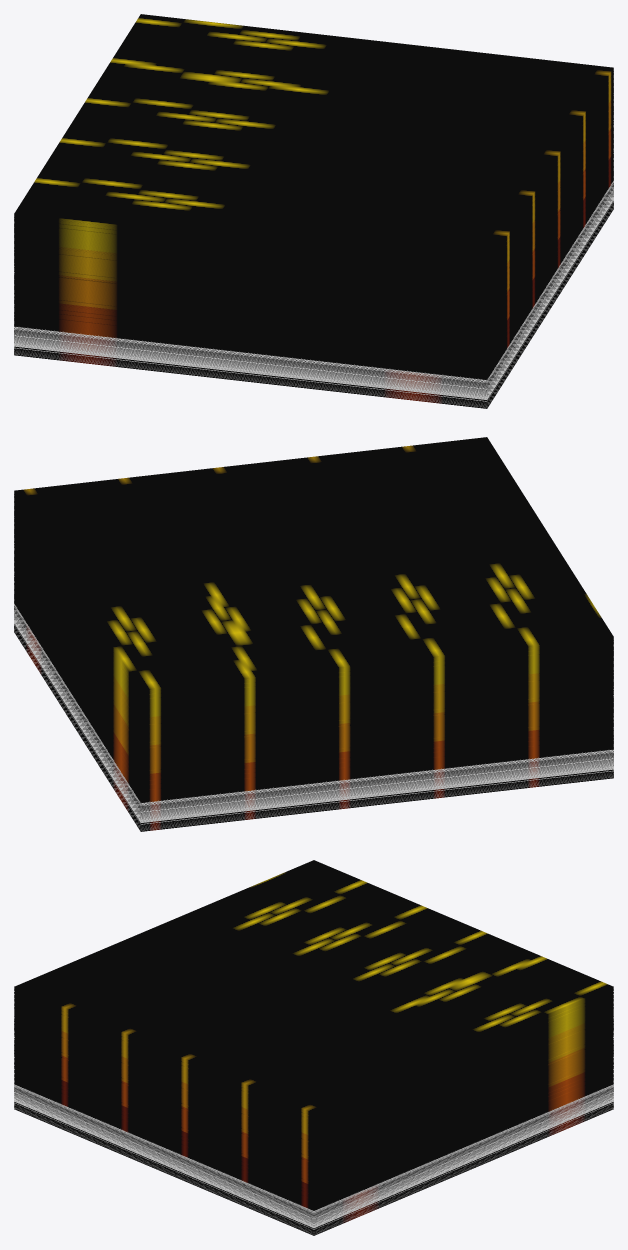
Rendered from ward_merging_table_item.obj.
The picture shows the model from 3 angles, top to bottom: view 1: azimuth 30°, elevation 25°; view 2: azimuth 150°, elevation 25°; view 3: azimuth 270°, elevation 25°; orthographic projection. The views are drawn at different scales.
Parts seen in each view (by area): view 1: Plane.002_Plane.002, Plane.001_Plane.001; view 2: Plane.002_Plane.002, Plane.001_Plane.001; view 3: Plane.002_Plane.002, Plane.001_Plane.001.
Boxes of the visible parts, x1,y1,x2,y2 form: Plane.002_Plane.002: (14, 14, 613, 408); Plane.001_Plane.001: (14, 181, 613, 407); Plane.002_Plane.002: (14, 437, 613, 831); Plane.001_Plane.001: (14, 604, 613, 830); Plane.002_Plane.002: (14, 860, 613, 1235); Plane.001_Plane.001: (14, 1084, 613, 1234).
Bounding box in the file's own units: 1.45 × 0.327 × 1.45.
